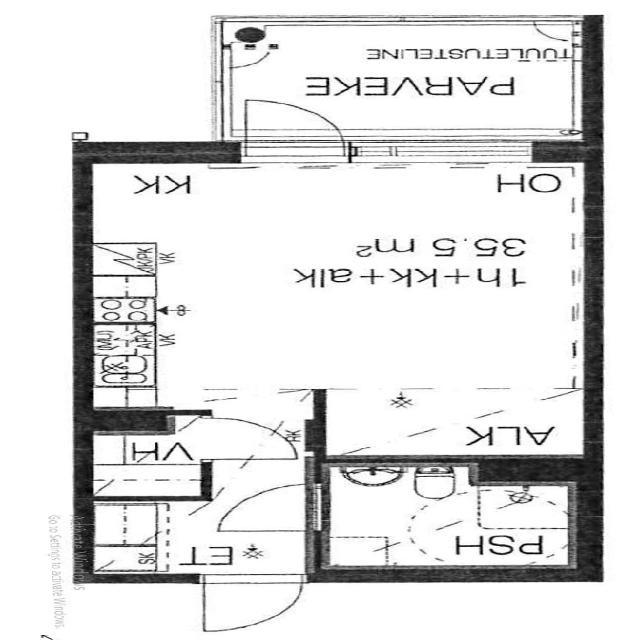door: (192, 570, 311, 634), (219, 478, 315, 531), (235, 95, 346, 138), (208, 418, 307, 462), (530, 18, 580, 42)
window: (354, 133, 546, 163), (232, 142, 358, 169)
zone: (84, 161, 595, 404), (220, 18, 582, 135), (313, 462, 582, 574), (82, 498, 304, 576), (319, 402, 590, 461), (88, 414, 203, 502)
